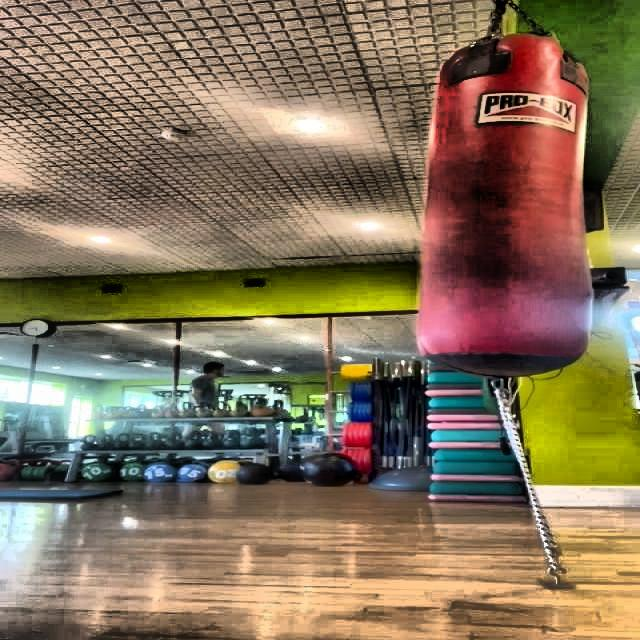boxing-bag: (428, 2, 594, 381)
